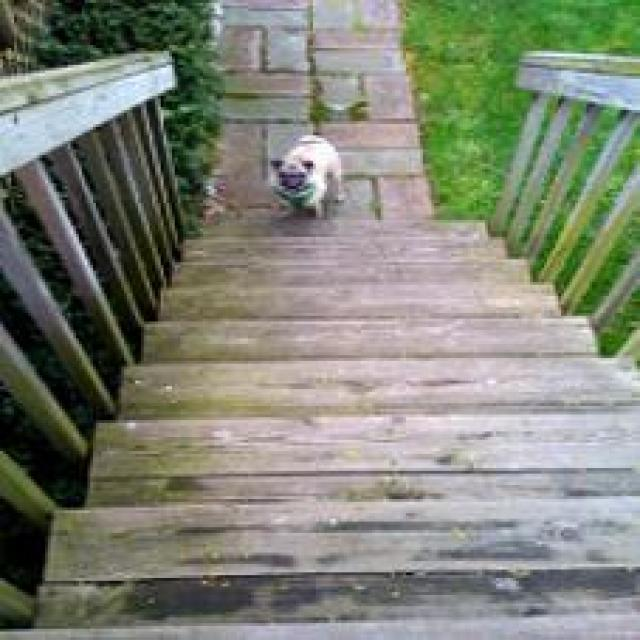stair: (71, 224, 633, 568)
